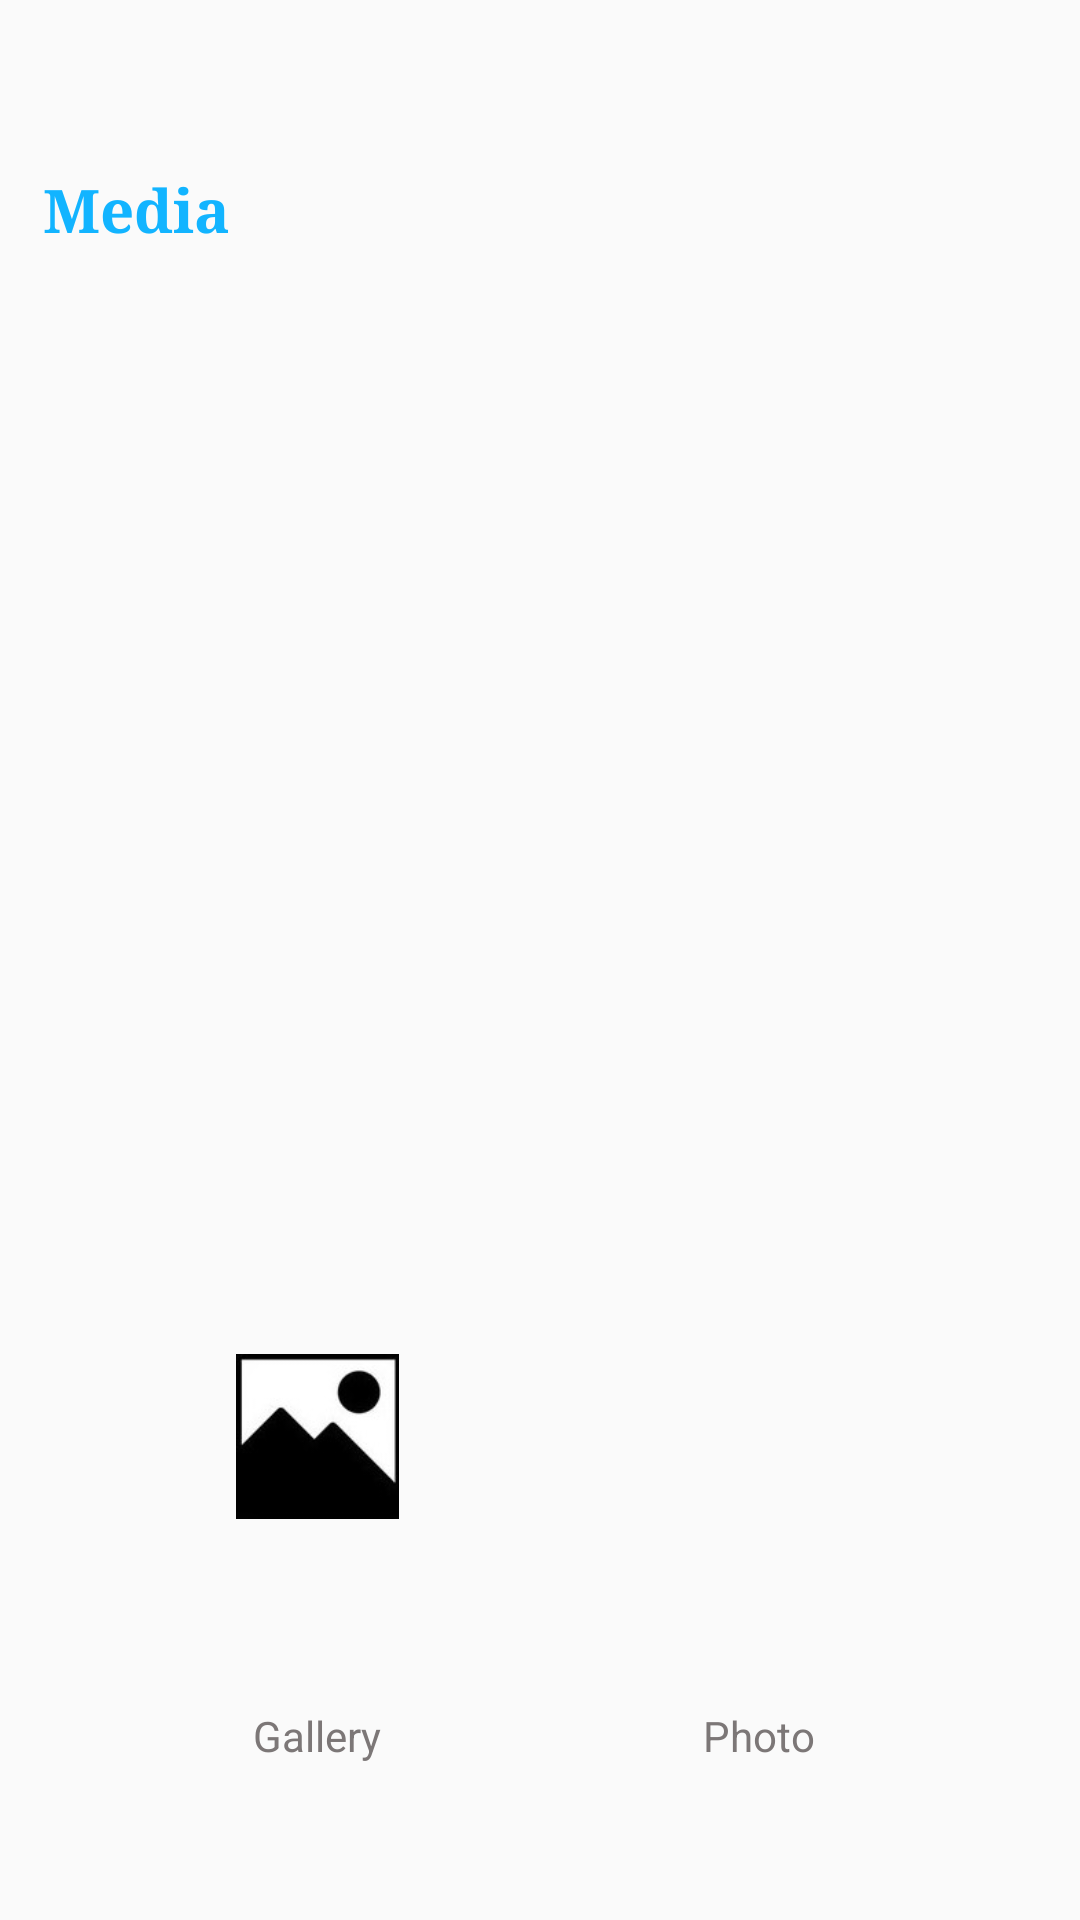

Named icons in this screenshot (1080x1920) and their centers, (x,y):
diary gallery: (317,1436)
